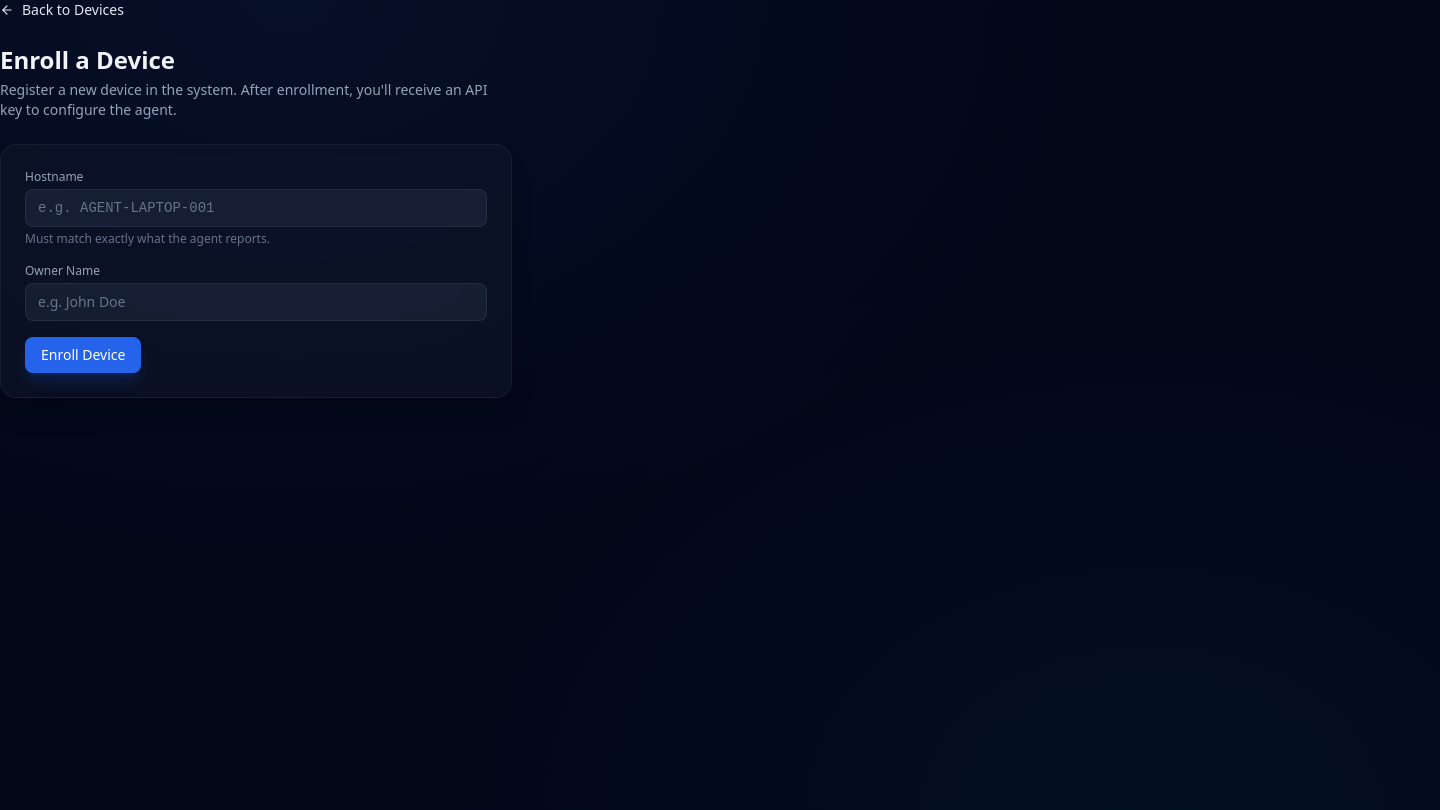
Test: EnrollPage › Serverless mode › shows the serverless install.ps1 download in serverless mode
Type "TEST-001" into the field with placeholder "e.g. AGENT-LAPTOP-001" at (256, 208), box [25,189,487,227]
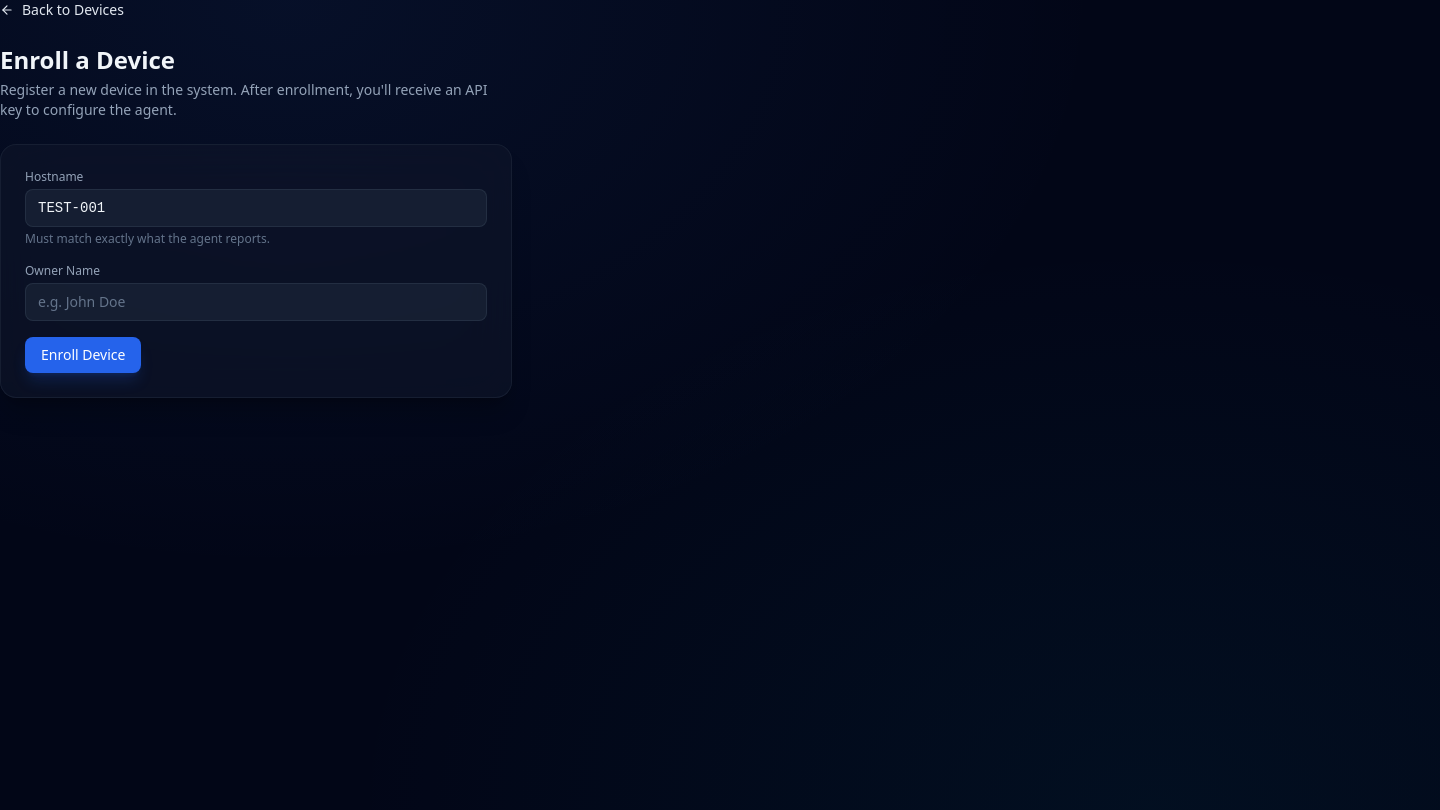
Type "Owner" into the field with placeholder "e.g. John Doe" at (256, 302), box [25,283,487,321]
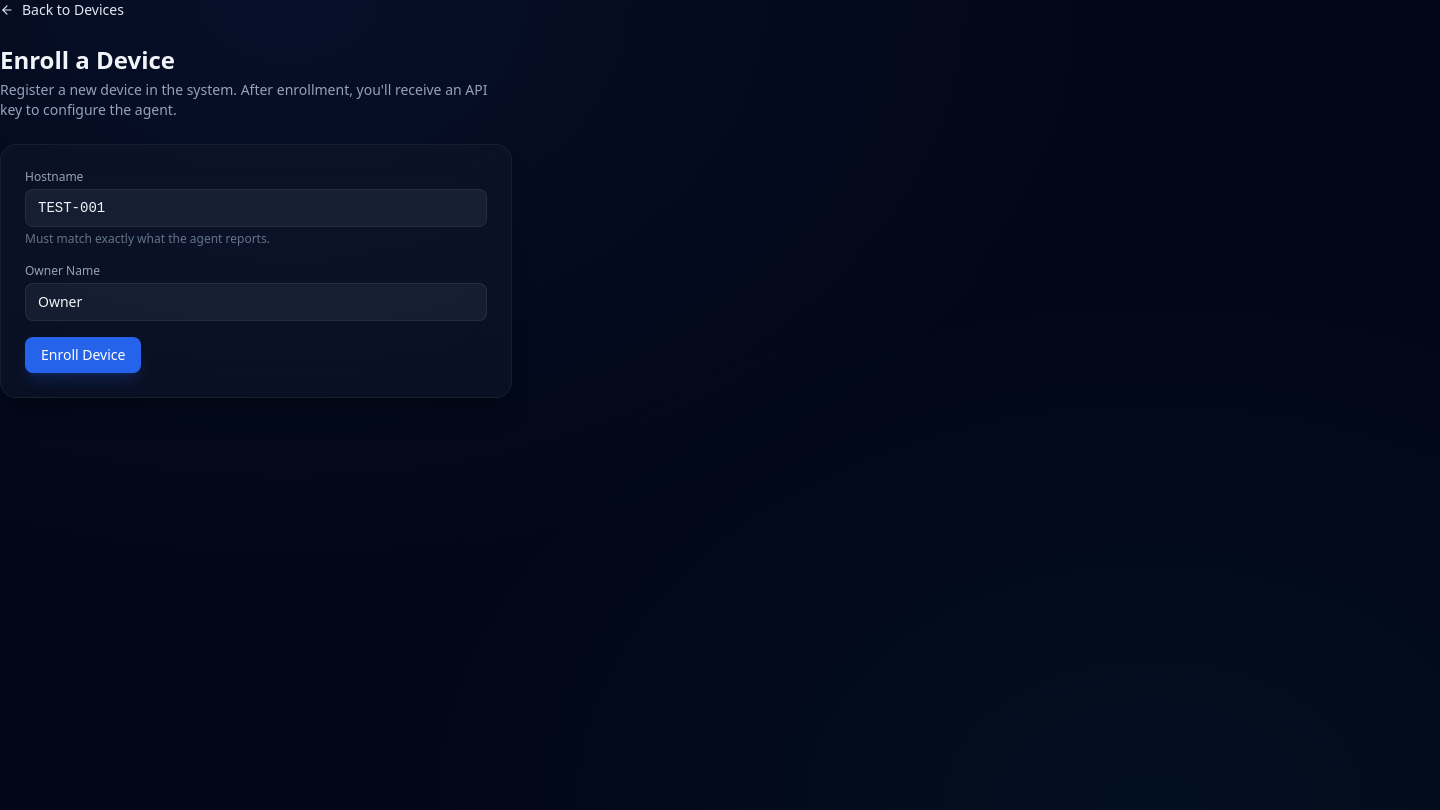
Click the button "Enroll Device" at (83, 355), box [25,337,142,373]
(page scrolled)
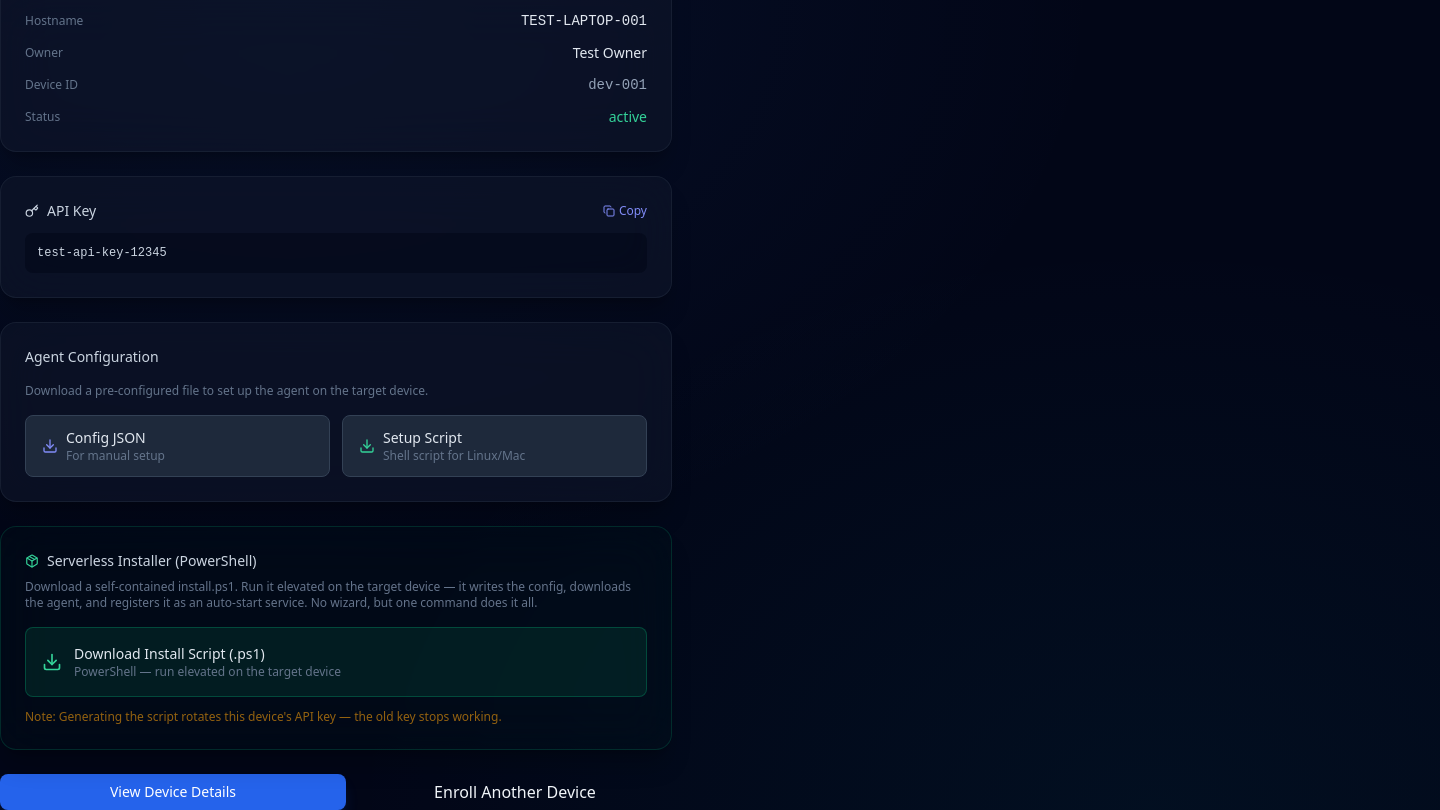
Expected: the text "Download Install Script (.ps1)" is shown, [74,644,265,663]
